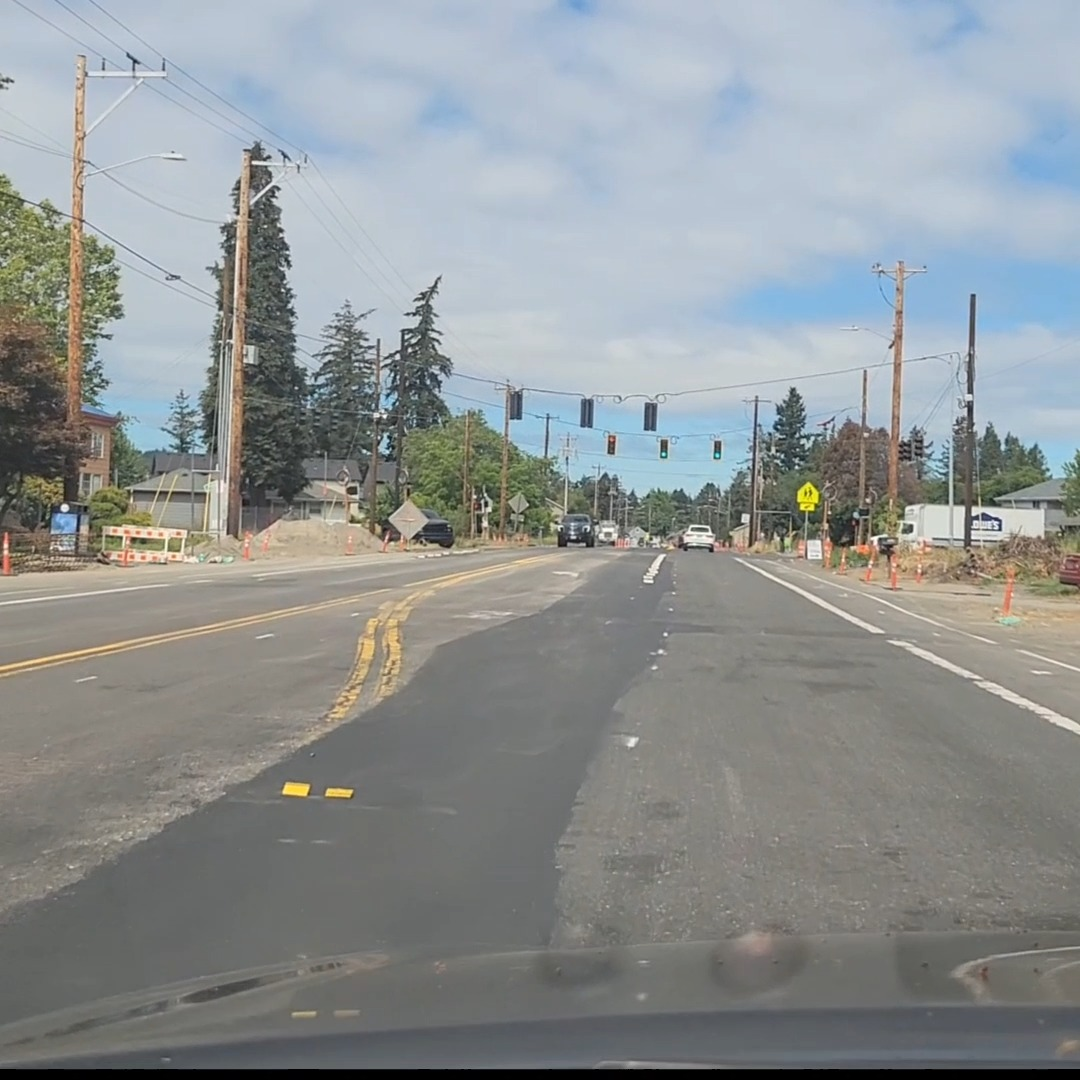car: (381, 508, 451, 546), (556, 513, 594, 546), (678, 524, 716, 551), (868, 533, 898, 556), (595, 520, 619, 546)
crosswalk-sign: (796, 481, 819, 510)
delineator: (1000, 566, 1016, 616), (883, 557, 901, 590), (1, 533, 11, 575), (863, 550, 874, 582), (837, 546, 847, 575), (242, 532, 252, 560), (345, 533, 355, 555), (914, 561, 924, 583), (823, 538, 831, 565), (380, 531, 390, 552), (261, 530, 270, 553), (125, 545, 134, 565), (398, 532, 406, 550), (522, 531, 529, 544), (496, 530, 503, 541)
